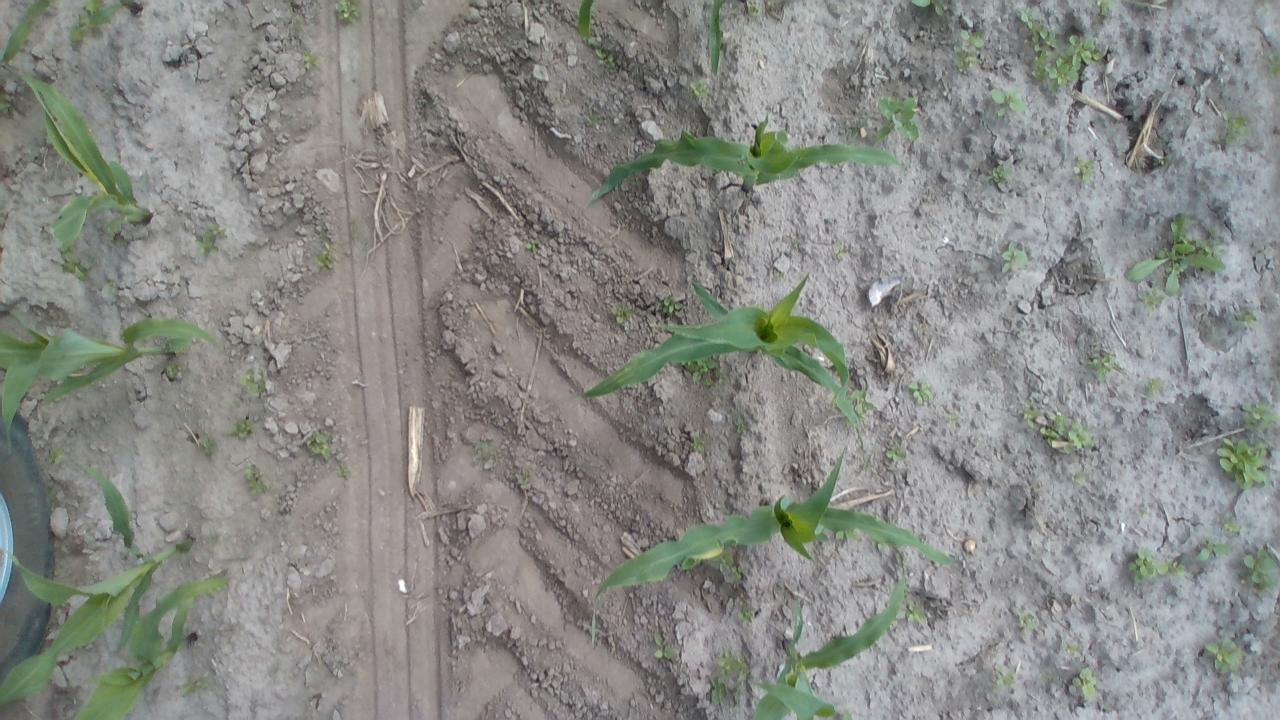Maize: (592, 441, 953, 641), (0, 460, 184, 710), (562, 282, 867, 430), (0, 303, 221, 445), (748, 546, 909, 720), (13, 68, 151, 244), (73, 578, 230, 720), (582, 119, 909, 186), (574, 0, 746, 77), (0, 0, 144, 68)
Weeds: (1126, 214, 1226, 295), (1050, 33, 1102, 92), (1214, 436, 1266, 490), (1038, 412, 1096, 453), (1025, 24, 1058, 82), (876, 96, 920, 138), (1244, 547, 1279, 595), (1203, 638, 1246, 674), (1213, 110, 1251, 148), (1128, 549, 1168, 583), (1085, 346, 1124, 380), (683, 353, 718, 388), (1240, 402, 1280, 432), (70, 0, 96, 44), (954, 29, 982, 68), (709, 676, 743, 707), (60, 245, 88, 282), (991, 88, 1028, 114), (716, 648, 749, 676), (1196, 539, 1230, 564), (238, 368, 266, 398), (196, 224, 223, 254), (848, 389, 874, 420), (311, 239, 337, 269), (1002, 242, 1028, 272), (652, 632, 678, 662), (1073, 668, 1098, 698), (907, 377, 934, 404), (306, 432, 332, 460), (1070, 154, 1096, 182), (1139, 286, 1165, 312), (1020, 399, 1041, 431), (245, 466, 267, 494), (334, 0, 360, 23), (910, 0, 946, 16), (1232, 309, 1260, 329), (1015, 606, 1038, 630), (610, 302, 634, 324), (988, 164, 1012, 186), (709, 551, 734, 572), (904, 604, 927, 624), (687, 80, 709, 100), (227, 420, 251, 438), (182, 680, 210, 695), (302, 49, 324, 68), (884, 443, 906, 462), (662, 296, 682, 316), (1074, 465, 1092, 487), (994, 668, 1016, 686), (833, 528, 861, 542), (1094, 0, 1117, 17), (1146, 377, 1166, 396), (596, 51, 616, 69), (737, 604, 754, 623), (843, 122, 865, 136), (46, 449, 64, 466), (1268, 54, 1280, 79), (1020, 8, 1035, 28), (1066, 641, 1086, 656), (1168, 561, 1186, 577), (690, 436, 706, 454), (472, 442, 488, 459), (201, 438, 217, 455), (734, 412, 746, 434), (1222, 520, 1240, 534), (516, 470, 534, 484), (947, 412, 961, 430), (730, 564, 744, 581), (0, 97, 12, 116), (46, 483, 57, 502), (835, 240, 846, 259), (718, 369, 730, 386), (586, 35, 600, 49), (523, 240, 537, 253), (108, 226, 118, 243), (1160, 154, 1174, 166), (872, 538, 886, 550), (166, 364, 178, 377), (840, 710, 854, 720), (1136, 508, 1150, 518), (586, 117, 600, 126), (338, 468, 352, 477), (748, 6, 759, 16), (104, 282, 114, 292), (863, 462, 870, 468)
